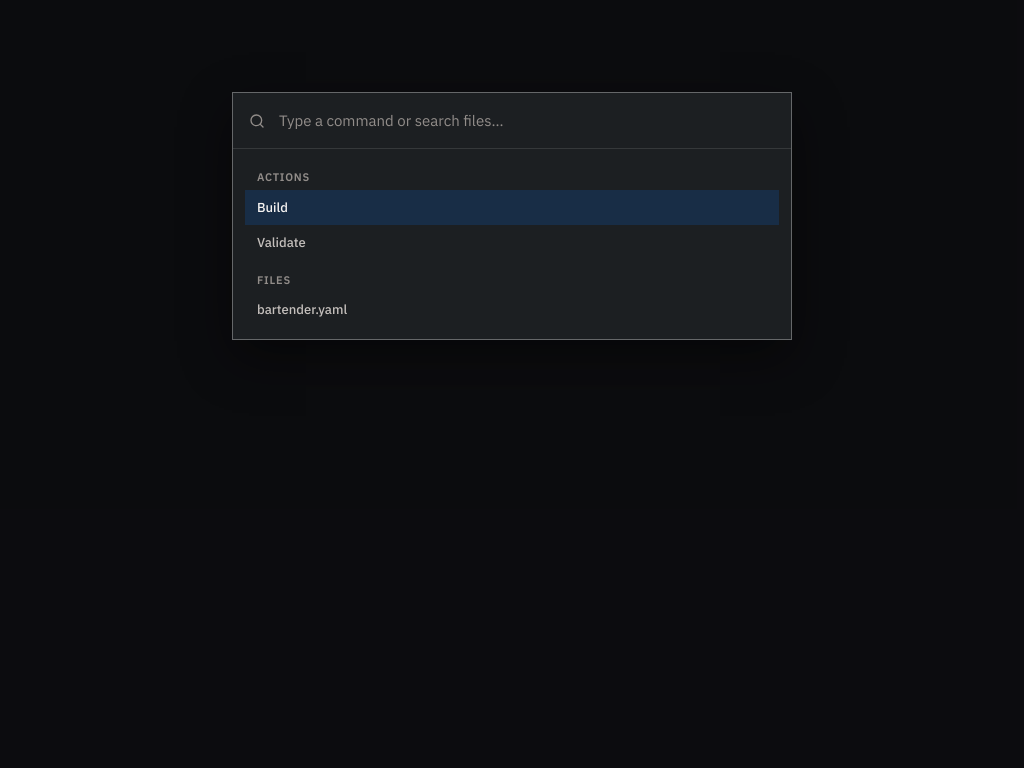
Test: CommandPalette real interaction › matches against keywords as well as the visible label
Type "characters" into the dropdown with placeholder "Type a command or search files…" at (526, 121), box [277,93,775,148]
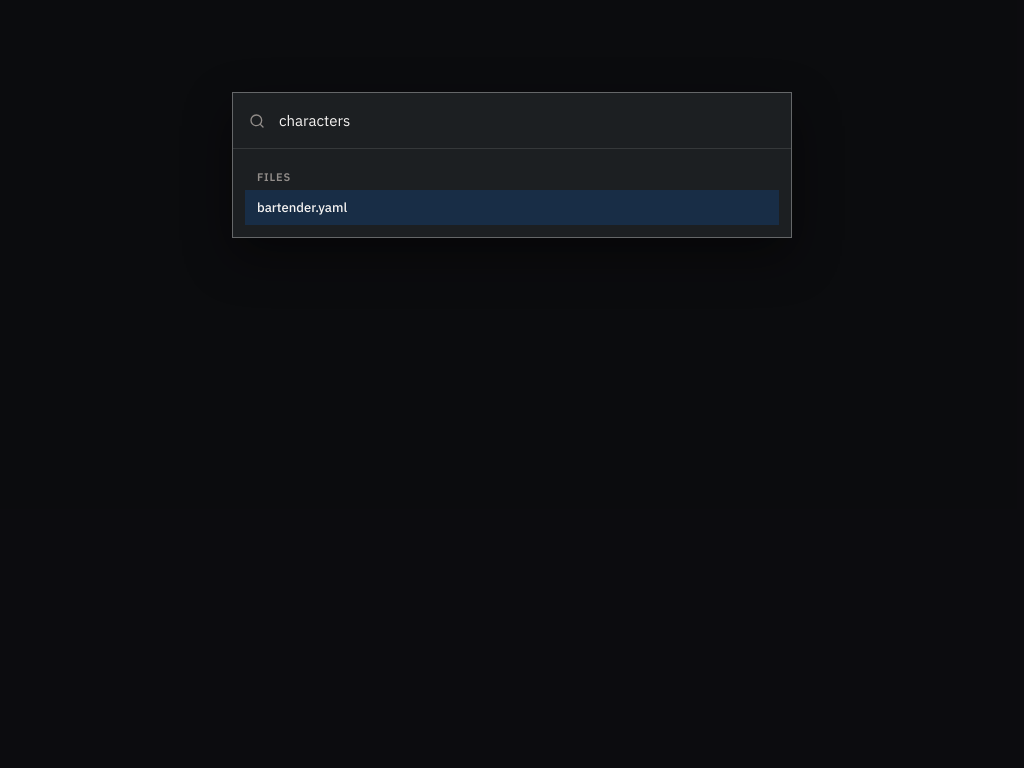
Check: the text "bartender.yaml" is shown, box [257,199,347,216]
Check: the option "Build" is gone
